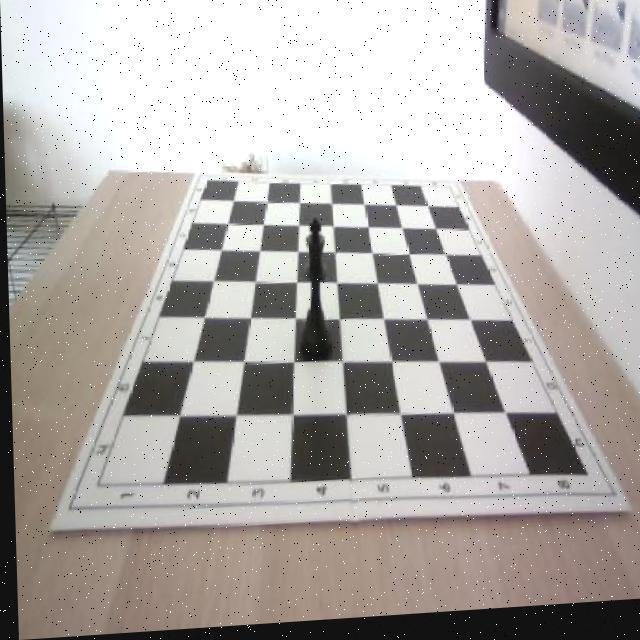black-bishop: (293, 220, 329, 369)
